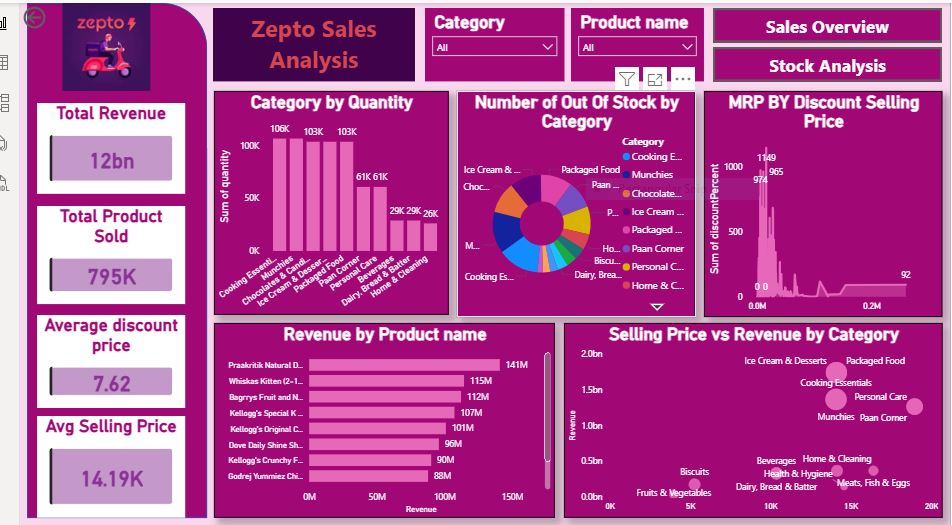

Layout of this report page (visuals, bound fields, positions):
{"tool":"powerbi","page":{"name":"Final Dashboard","canvas":[1280,720],"ordinal":2},"visuals":[{"type":"shape","box":[10,0,248,709],"z":0},{"type":"textbox","box":[266,7,278,101],"z":1000},{"type":"slicer","fields":{"Values":["zepto_dataset.Category"]},"box":[557.3,7.2,191.5,100.8],"z":2000},{"type":"slicer","fields":{"Values":["zepto_dataset.Product name"]},"box":[758.9,7.2,182.9,100.8],"z":3000},{"type":"image","box":[23,0,191.5,121],"z":4000},{"type":"cardVisual","title":"Total Revenue","fields":{"Data":["zepto_dataset.Revenue"]},"box":[23,138.2,204.5,125.3],"z":5000},{"type":"cardVisual","title":"Total Product Sold","fields":{"Data":["Sum(zepto_dataset.quantity)"]},"box":[23,279.4,204.5,135.4],"z":6000},{"type":"cardVisual","title":"Avg Selling Price","fields":{"Data":["zepto_dataset.Avg selling price"]},"box":[23,568.8,204.5,139.7],"z":7000},{"type":"cardVisual","title":"Average discount price","fields":{"Data":["zepto_dataset.Average discount price"]},"box":[23,429.1,204.5,128.2],"z":8000},{"type":"actionButton","box":[0,0,100,40],"z":9000},{"type":"clusteredColumnChart","title":"Category by Quantity","fields":{"Category":["zepto_dataset.Category"],"Y":["Sum(zepto_dataset.quantity)"]},"box":[266.4,121,322.6,308.2],"z":10000},{"type":"donutChart","title":"Number of Out Of Stock by Category","fields":{"Category":["zepto_dataset.Category"],"Y":["CountNonNull(zepto_dataset.outOfStock)"]},"box":[601.9,121,328.3,311],"z":11000},{"type":"areaChart","title":"MRP BY Discount Selling Price","fields":{"Category":["zepto_dataset.mrp"],"Y":["Sum(zepto_dataset.discountPercent)"]},"box":[941.8,121,328.3,311],"z":12000},{"type":"clusteredBarChart","fields":{"Category":["zepto_dataset.Product name"],"Y":["zepto_dataset.Revenue"]},"box":[266.4,440.6,469.4,267.8],"z":13000},{"type":"scatterChart","title":"Selling Price vs Revenue by Category","fields":{"Y":["zepto_dataset.Revenue"],"Size":["Sum(zepto_dataset.quantity)"],"Category":["zepto_dataset.Category"],"X":["zepto_dataset.Avg selling price"]},"box":[748.8,440.6,521.3,267.8],"z":14000},{"type":"actionButton","box":[953.3,7.2,315.4,47.5],"z":15000},{"type":"actionButton","box":[953.3,60.5,315.4,47.5],"z":16000}]}

Visuals, with their boxes in screenshot pixels (x1, y1, x2, y2):
shape: <region>27, 5, 206, 515</region>
textbox: <region>211, 10, 411, 83</region>
slicer - zepto_dataset.Category: <region>421, 10, 559, 83</region>
slicer - zepto_dataset.Product name: <region>566, 10, 698, 83</region>
image: <region>36, 5, 174, 92</region>
"Total Revenue" cardVisual: <region>36, 104, 184, 195</region>
"Total Product Sold" cardVisual: <region>36, 206, 184, 304</region>
"Avg Selling Price" cardVisual: <region>36, 414, 184, 515</region>
"Average discount price" cardVisual: <region>36, 314, 184, 406</region>
actionButton: <region>20, 5, 92, 34</region>
"Category by Quantity" clusteredColumnChart: <region>212, 92, 444, 314</region>
"Number of Out Of Stock by Category" donutChart: <region>453, 92, 689, 316</region>
"MRP BY Discount Selling Price" areaChart: <region>698, 92, 934, 316</region>
clusteredBarChart - zepto_dataset.Product name x zepto_dataset.Revenue: <region>212, 322, 550, 515</region>
"Selling Price vs Revenue by Category" scatterChart: <region>559, 322, 934, 515</region>
actionButton: <region>706, 10, 933, 44</region>
actionButton: <region>706, 49, 933, 83</region>
